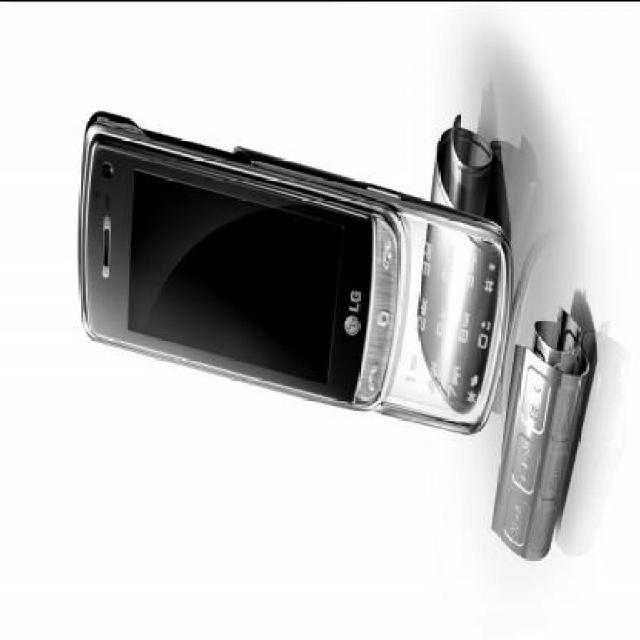fake: (80, 108, 512, 441)
